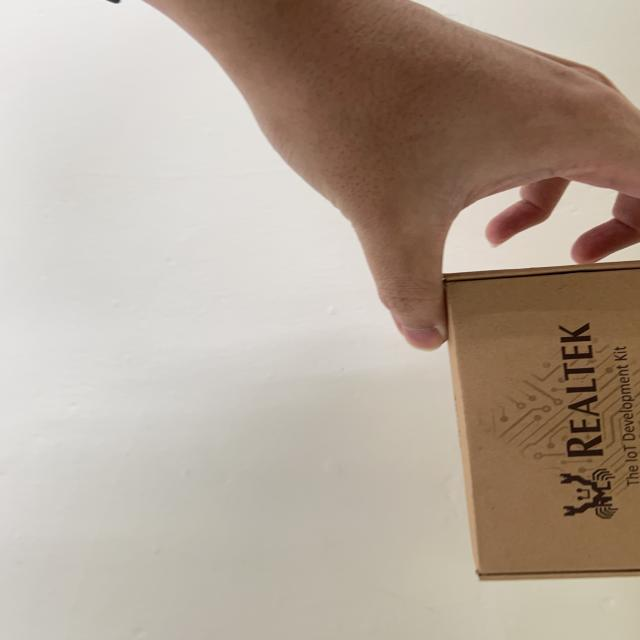box: (407, 244, 640, 624)
